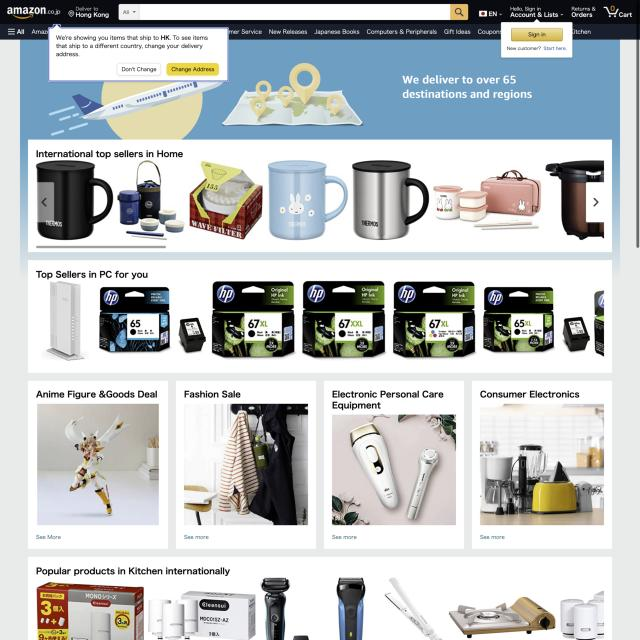input: (118, 3, 470, 21)
logo: (5, 4, 63, 20)
navigation: (5, 27, 28, 36)
